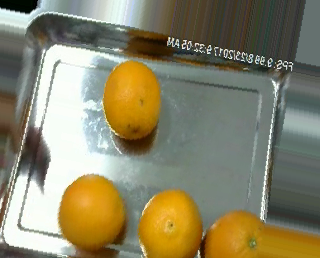Orange: (58, 173, 126, 250), (137, 188, 204, 258), (103, 60, 160, 139)
